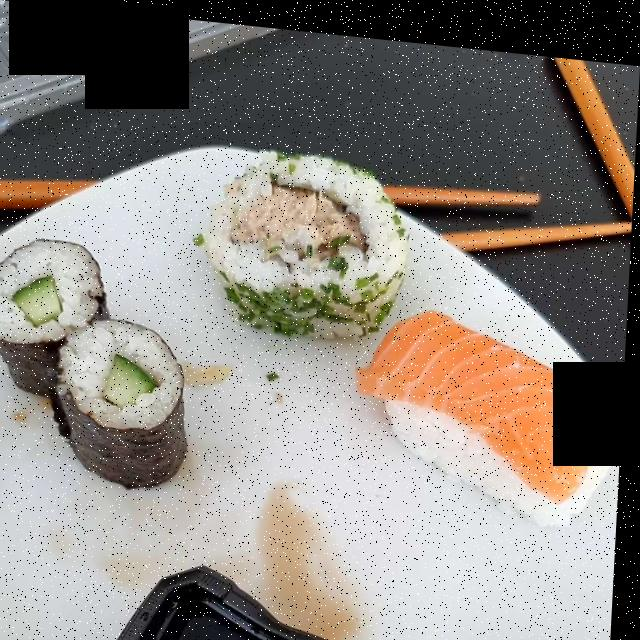sauce-soya: (209, 481, 367, 630)
sushi: (0, 148, 626, 514)
